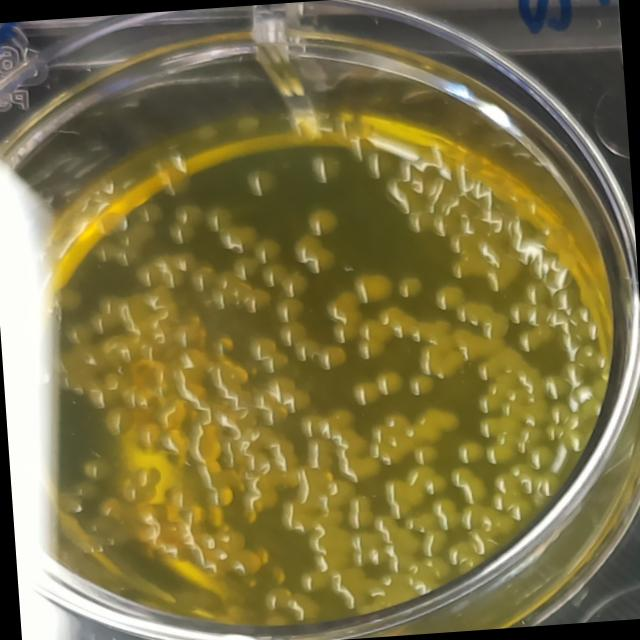vibrio: (190, 262, 274, 317), (380, 302, 453, 345), (135, 249, 199, 289), (452, 298, 512, 340), (416, 342, 465, 381), (277, 319, 320, 362), (292, 232, 336, 274), (352, 265, 396, 306), (246, 332, 289, 373), (164, 201, 205, 242), (322, 287, 362, 327), (450, 463, 488, 504), (217, 220, 260, 253), (100, 400, 137, 436), (304, 202, 340, 236), (514, 322, 554, 352), (307, 152, 343, 185), (242, 164, 279, 196), (508, 298, 548, 327), (345, 493, 375, 529), (453, 435, 489, 464), (373, 367, 407, 397), (272, 296, 310, 322), (316, 342, 348, 372), (432, 497, 462, 529), (202, 202, 234, 232), (348, 376, 380, 404), (434, 281, 466, 309), (306, 438, 334, 470), (406, 372, 438, 398), (252, 237, 282, 263), (522, 278, 550, 304), (394, 274, 424, 298), (232, 255, 261, 279), (300, 568, 329, 592), (411, 443, 438, 464)
